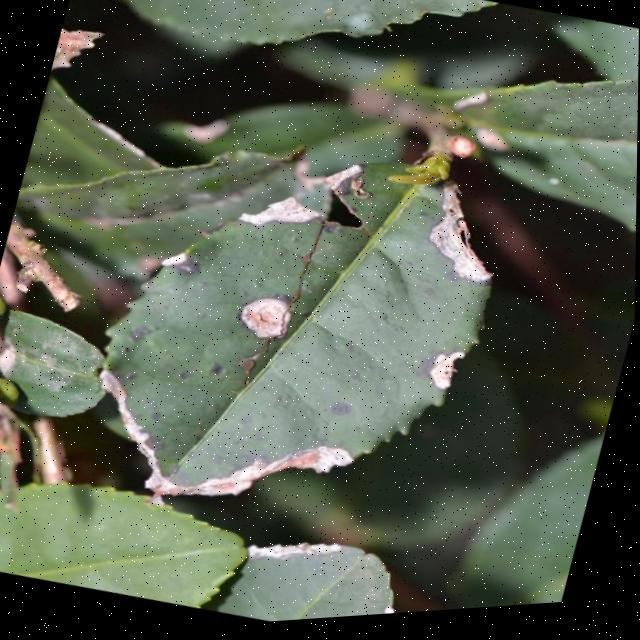Tea cloud leaf blight: (69, 384, 361, 553), (390, 172, 522, 306), (231, 144, 369, 254), (403, 333, 482, 420), (233, 298, 312, 358), (140, 238, 216, 286)
